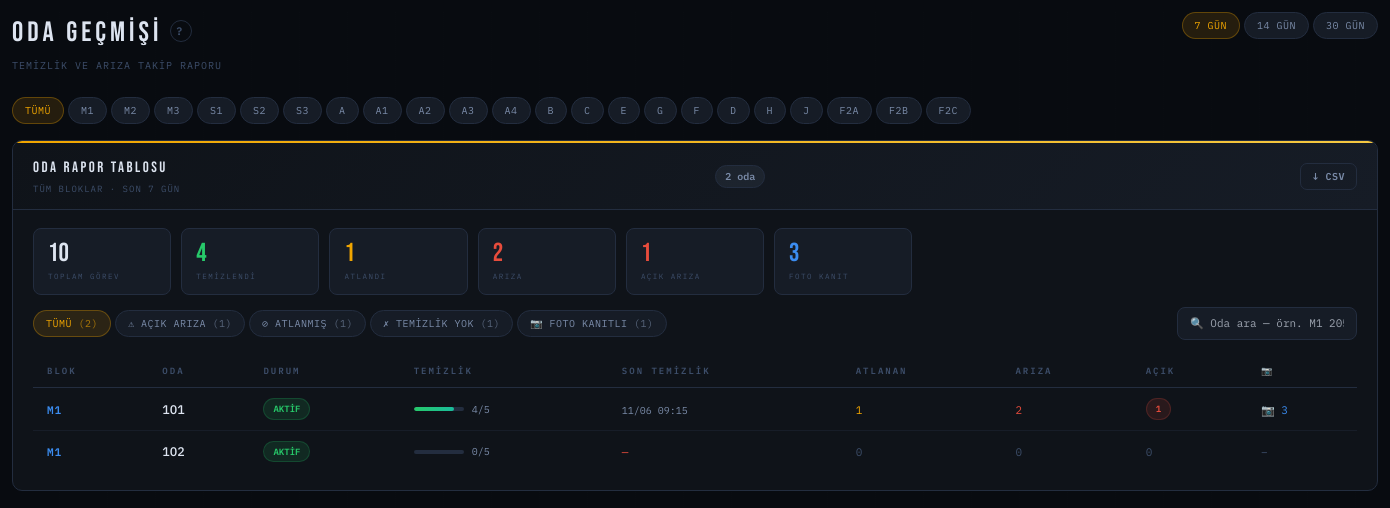
Test: room-history/RoomHistoryPage smoke › oda arama kutusu "m1 101" eşleşmeyen odayı gizler
Expected: the button "✗ TEMİZLİK YOK (1)" is shown, left=370, top=310, right=513, bottom=337
Type "m1 101" into the field labelled "Oda ara" at (1267, 324), box left=1177, top=307, right=1357, bottom=340
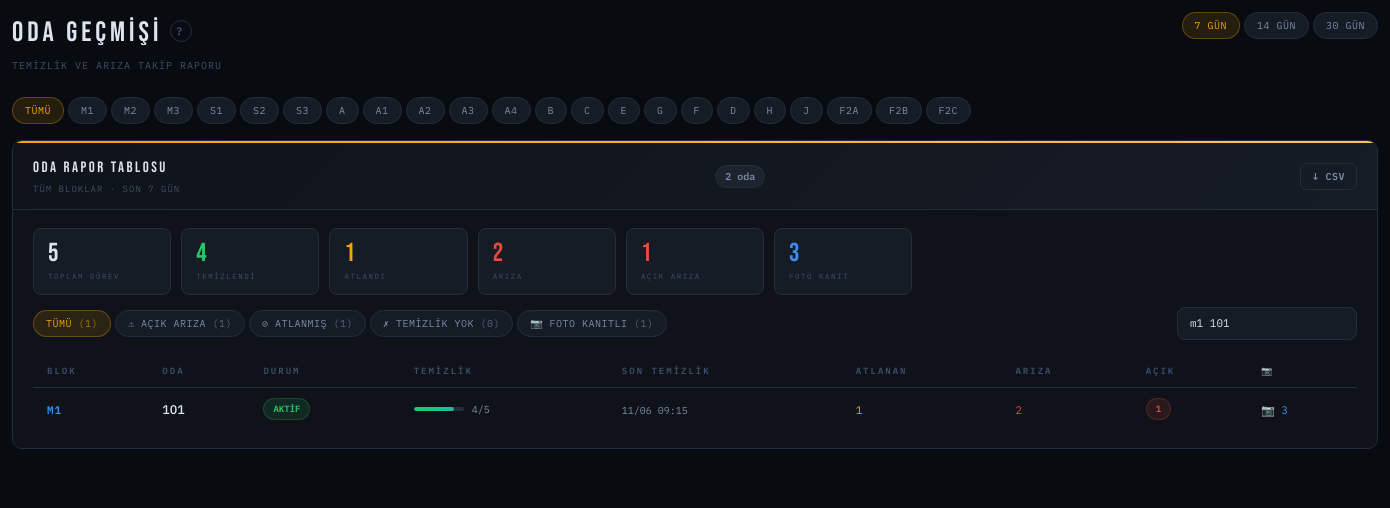
Expected: the text "101" is shown, left=148, top=388, right=249, bottom=430
Expected: the text "102" is gone
